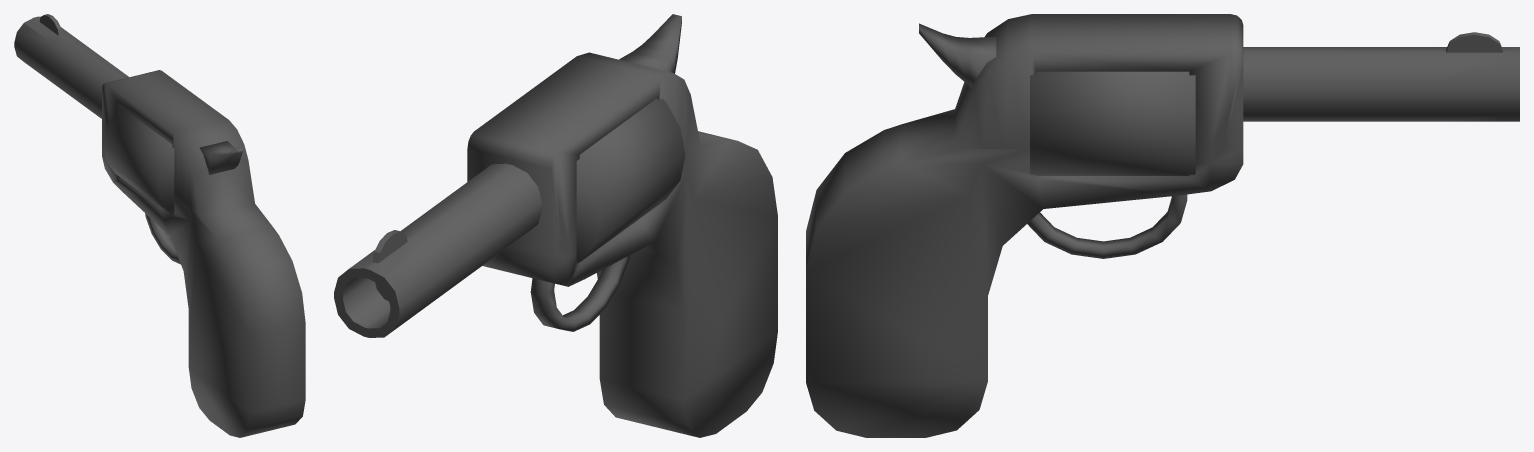
The model's file is MainArme.fbx.
The picture shows the model from 3 angles, left to right: view 1: azimuth 30°, elevation 25°; view 2: azimuth 150°, elevation 25°; view 3: azimuth 270°, elevation 25°; orthographic projection. The views are drawn at different scales.
Visible parts, largest first — view 1: Manche, Canon, barrile; view 2: Manche, Canon, barrile; view 3: Manche, Canon, barrile.
Part boxes in pixels (x1,y1,x2,y2): Manche: [102, 70, 305, 437]; Canon: [14, 14, 128, 118]; barrile: [103, 107, 174, 215]; Manche: [467, 14, 777, 437]; Canon: [334, 163, 542, 337]; barrile: [576, 98, 685, 263]; Manche: [806, 14, 1243, 437]; Canon: [1243, 32, 1519, 121]; barrile: [1030, 71, 1195, 175].
Size of the model in its own units: 2.63 by 7.8 by 12.85.
